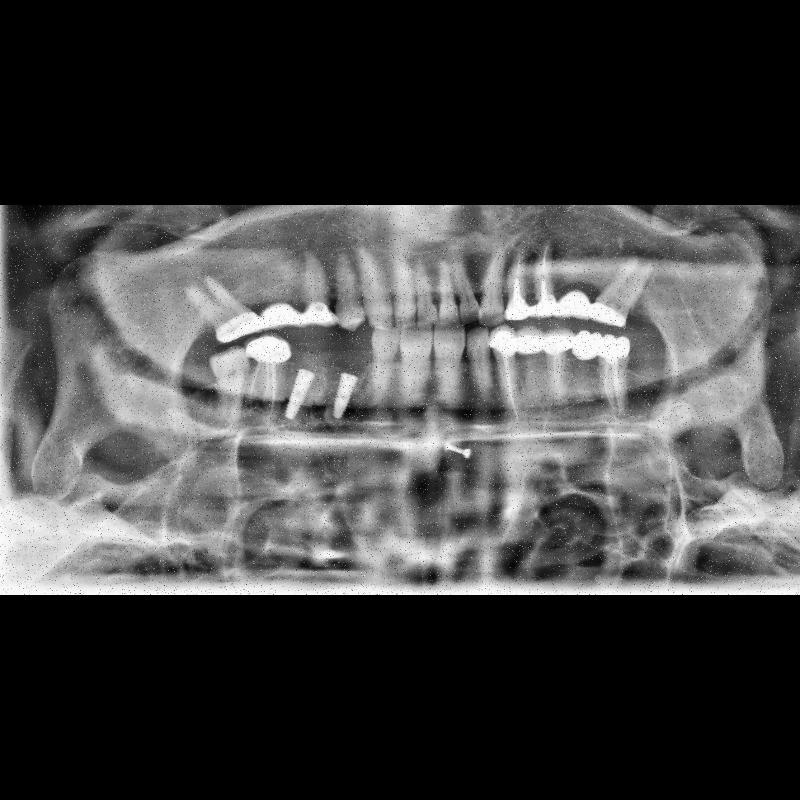osstem: (327, 365, 367, 423), (283, 366, 317, 426)
